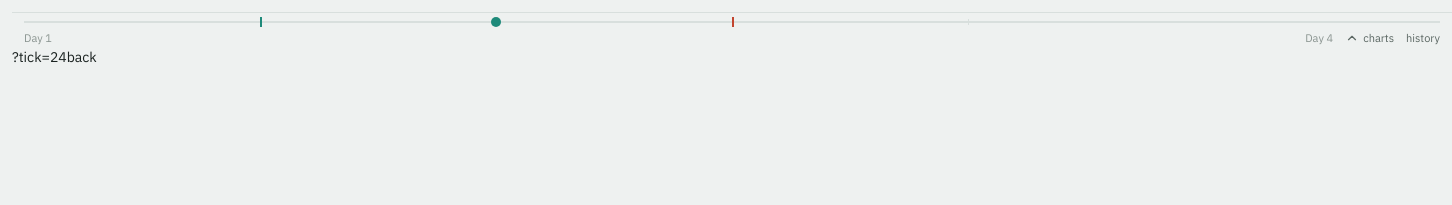
the tracks › reads its values at the parked tick
What coordinates should you click on to do the following:
click the button "charts"
I would click on:
 (1370, 38)
Its box is [1345,31,1394,45].
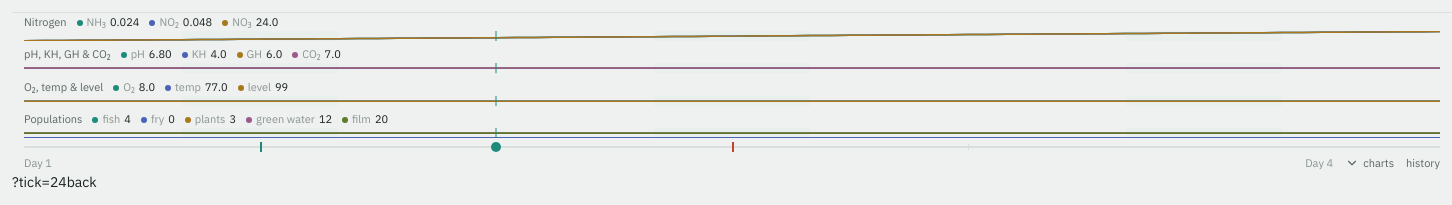
Expected: the text "24.0" is shown, [256,15,278,29]
